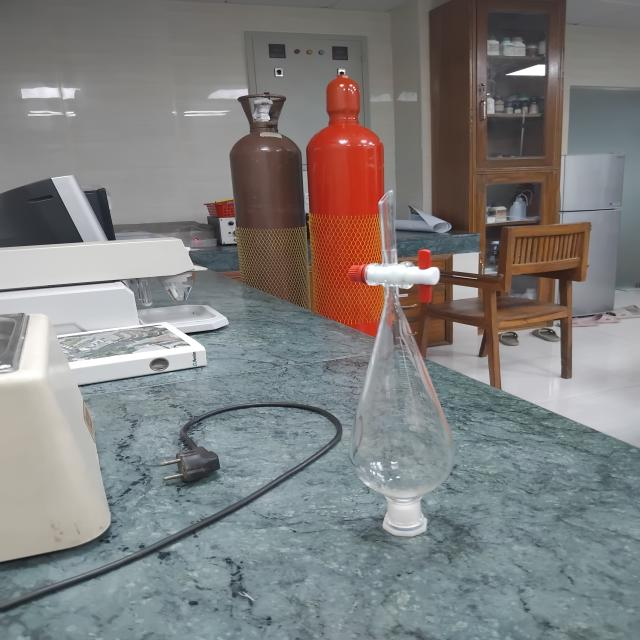Separating_Funnel: (294, 169, 500, 561)
